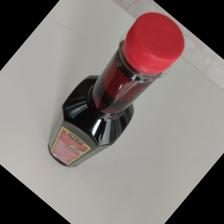Namngu: (48, 12, 186, 169)
